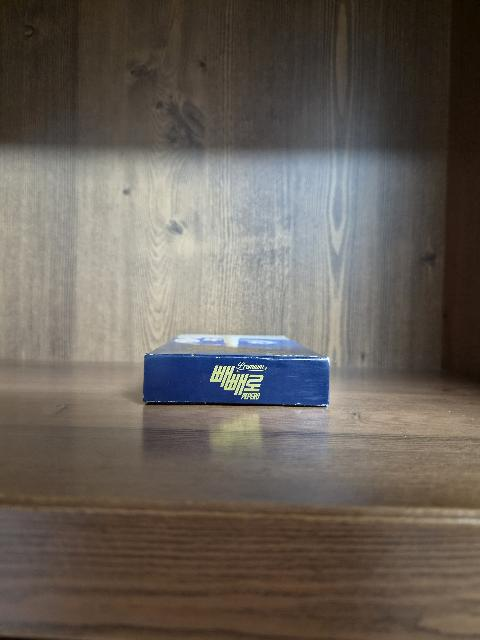pepero: (143, 335, 330, 406)
